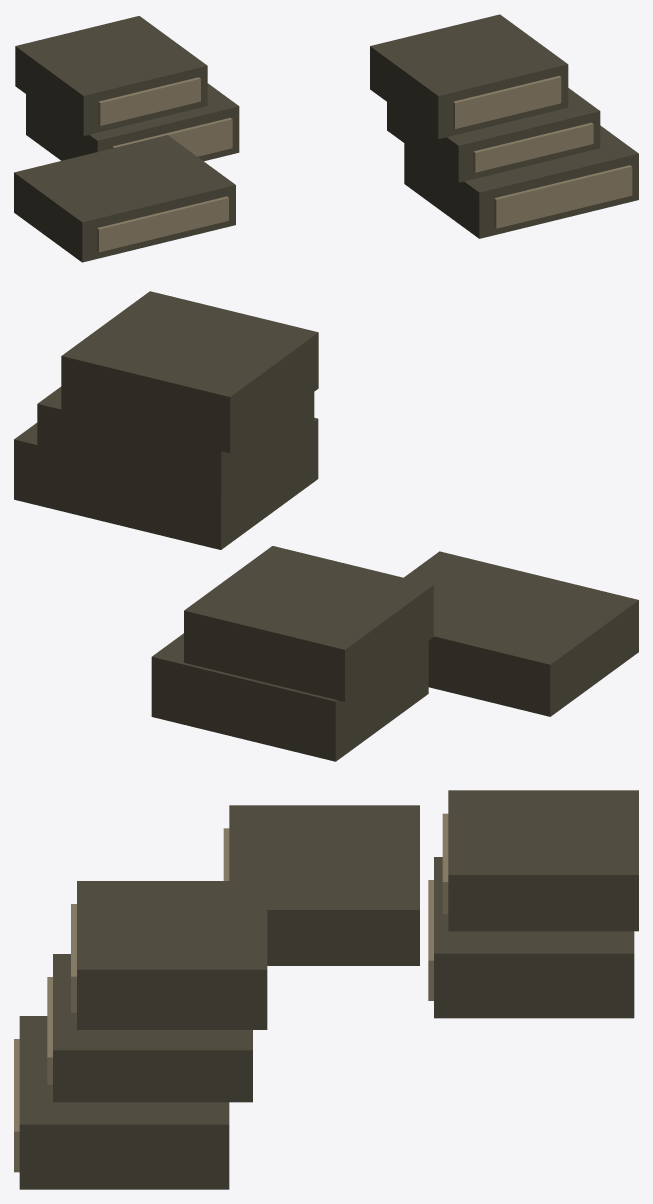
Rendered from CMU3DDecorFloorBookPile4.glb.
The picture shows the model from 3 angles, top to bottom: view 1: azimuth 30°, elevation 25°; view 2: azimuth 150°, elevation 25°; view 3: azimuth 270°, elevation 25°; orthographic projection. The views are drawn at different scales.
Visible parts, largest first — view 1: worn book cover (×6), exposed yellowed pages (×6); view 2: worn book cover (×6); view 3: worn book cover (×6), exposed yellowed pages (×5).
Part boxes in pixels (x1,y1,x2,y2): worn book cover (×6): (14,14,638,262); exposed yellowed pages (×6): (97,76,632,252); worn book cover (×6): (14,291,638,761); worn book cover (×6): (19,790,638,1189); exposed yellowed pages (×5): (14,813,448,1172).
Bounding box in the file's own units: 0.815 × 0.215 × 0.656.
